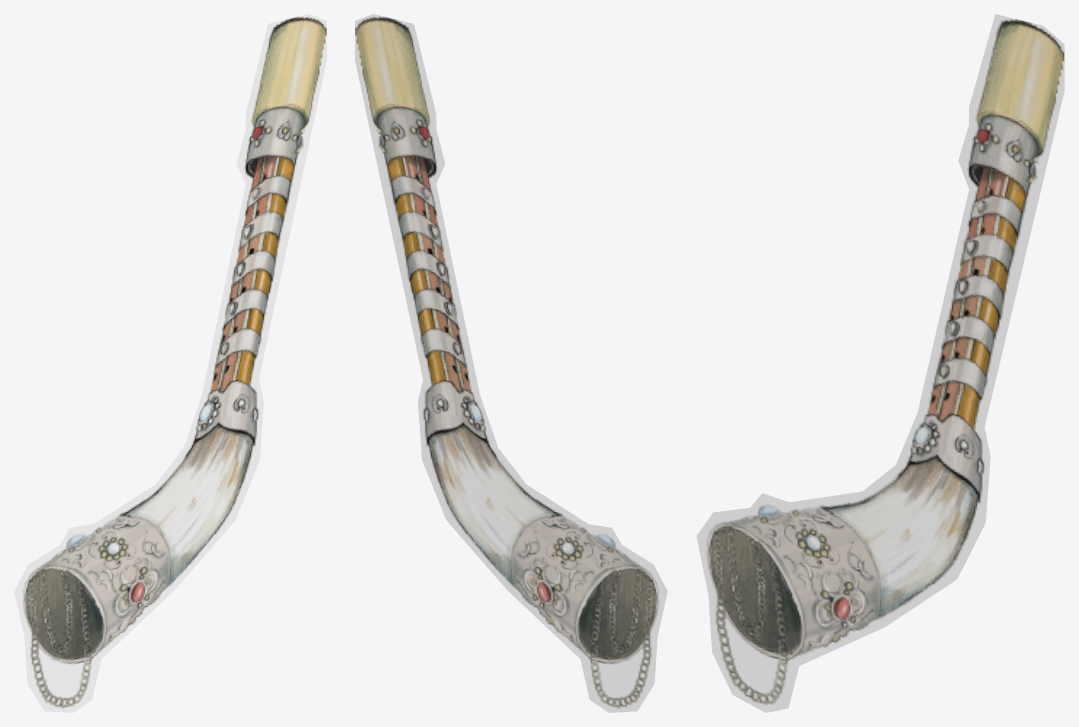
3 views of the same model, side by side, from view 1: azimuth 30°, elevation 25°; view 2: azimuth 150°, elevation 25°; view 3: azimuth 330°, elevation 25° (orthographic). The views are drawn at different scales.
Visible parts, largest first — view 1: Plane; view 2: Plane; view 3: Plane.
Part boxes in pixels (left/top/right/bottom): Plane: left=14, top=14, right=326, bottom=712; Plane: left=355, top=14, right=667, bottom=712; Plane: left=696, top=14, right=1064, bottom=712.
Bounding box in the file's own units: 2.15 × 4.22 × 0.
1 material, 1 textured.
